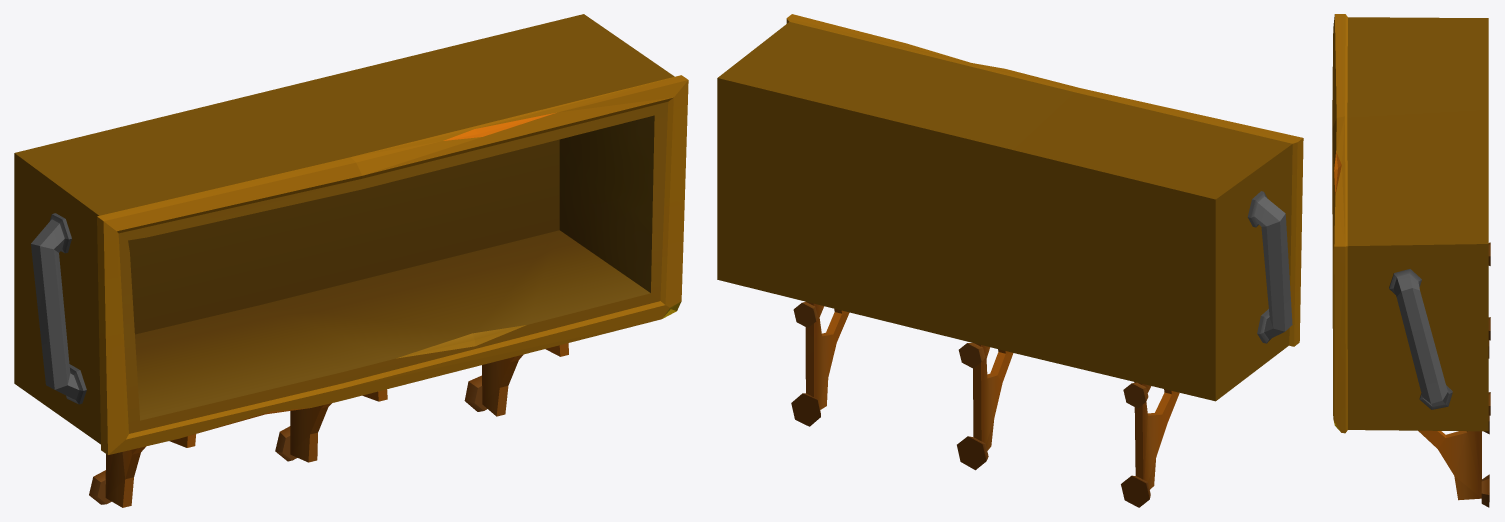
Rendered from Wall Bookshelf.glb.
The picture shows the model from 3 angles, left to right: view 1: azimuth 30°, elevation 25°; view 2: azimuth 150°, elevation 25°; view 3: azimuth 270°, elevation 25°; orthographic projection. The views are drawn at different scales.
Visible parts, largest first — view 1: WallBookShelf; view 2: WallBookShelf; view 3: WallBookShelf.
Part boxes in pixels (x1,y1,x2,y2): WallBookShelf: (14,14,688,507); WallBookShelf: (717,14,1303,507); WallBookShelf: (1332,14,1490,507).
Size of what is drawn, in the model's own units: 1.63 by 0.9427 by 0.4408.
1 material, 1 textured.
